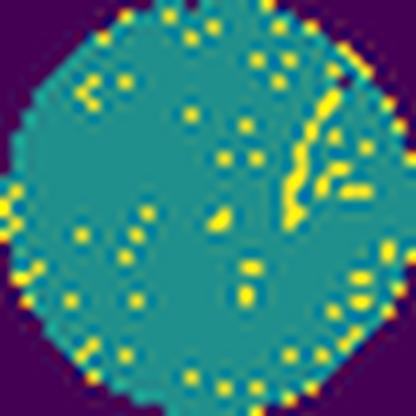Scratch: (280, 88, 347, 237)
